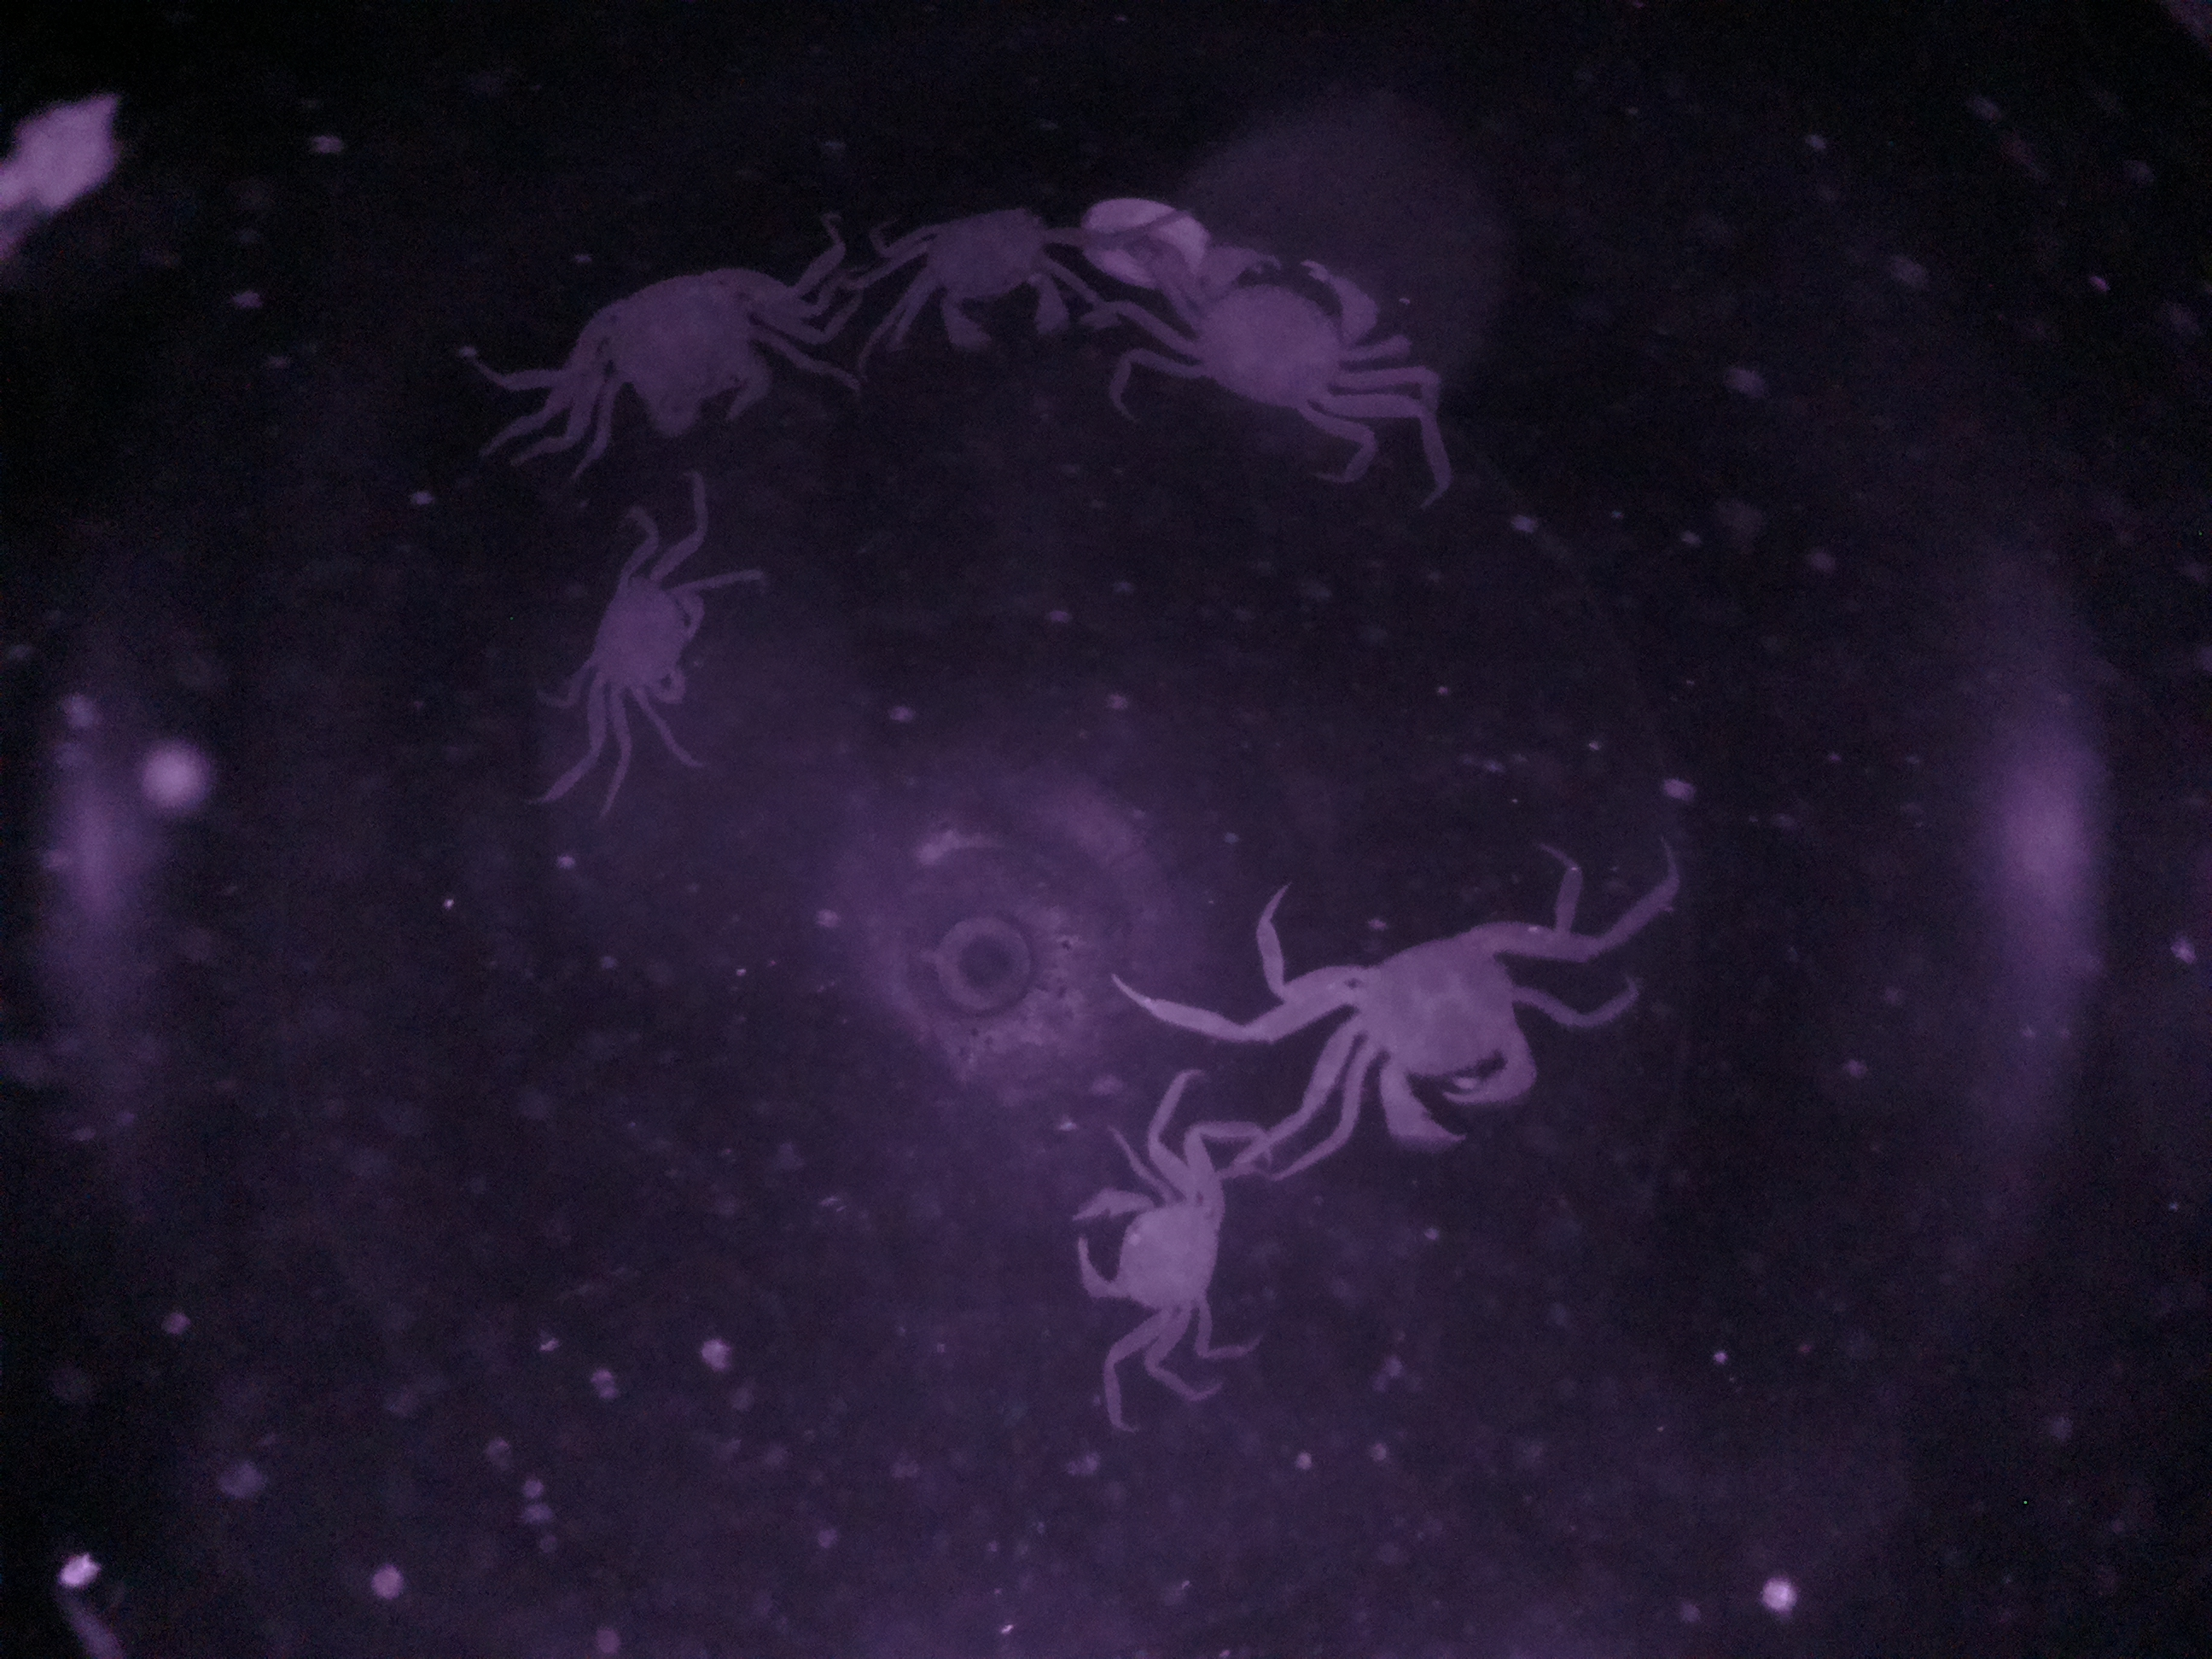Crab: (1278, 908, 1590, 1166), (1153, 235, 1425, 429), (585, 242, 817, 460), (1055, 1145, 1256, 1354), (874, 192, 1101, 369), (564, 526, 716, 748)
